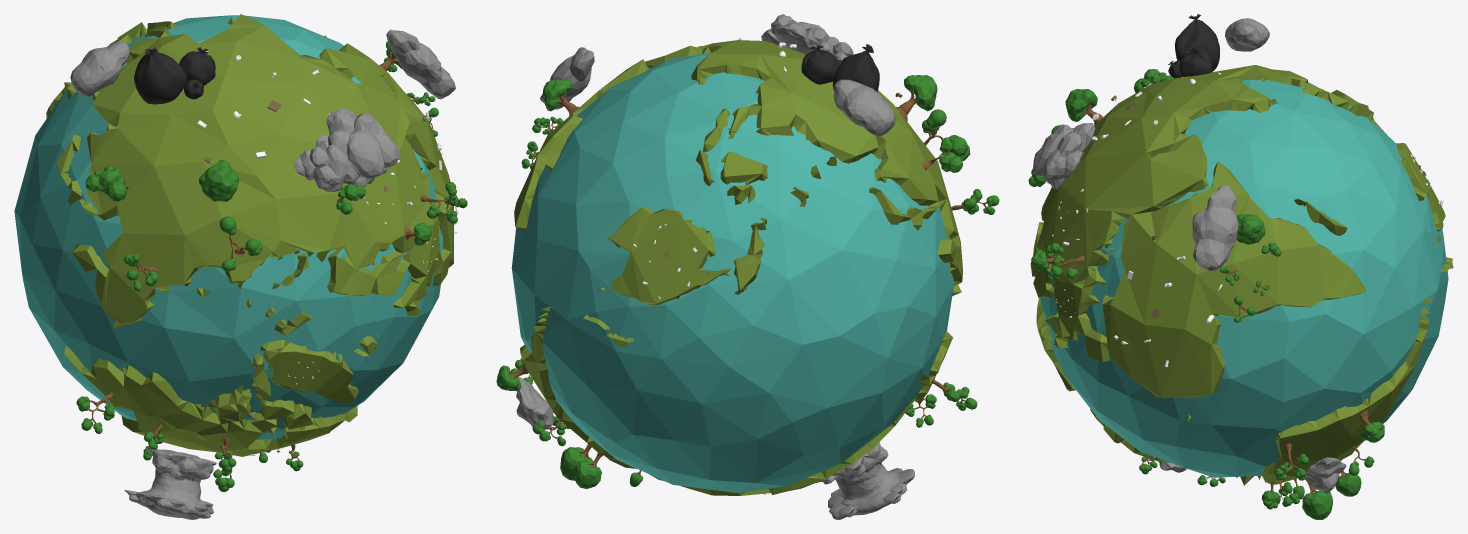
The picture shows the model from 3 angles, left to right: view 1: azimuth 30°, elevation 25°; view 2: azimuth 150°, elevation 25°; view 3: azimuth 270°, elevation 25°; orthographic projection. The views are drawn at different scales.
Visible parts, largest first — view 1: all_good.005; view 2: all_good.005; view 3: all_good.005.
Boxes of the visible parts, <box> form: all_good.005: <box>14,14,467,519</box>; all_good.005: <box>496,14,999,519</box>; all_good.005: <box>1028,14,1453,519</box>.
Size of the model in its own units: 103 by 116 by 102.
